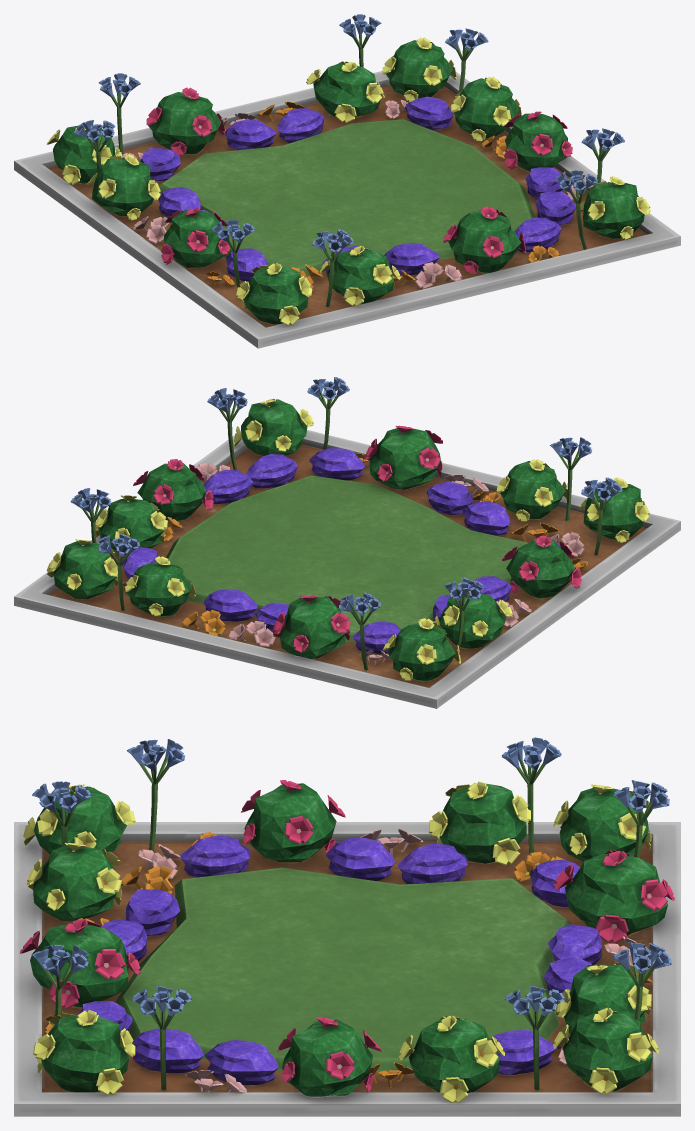
File: Garden.obj
The picture shows the model from 3 angles, top to bottom: view 1: azimuth 30°, elevation 25°; view 2: azimuth 150°, elevation 25°; view 3: azimuth 270°, elevation 25°; orthographic projection. The views are drawn at different scales.
Parts seen in each view (by area): view 1: Garden_mesh; view 2: Garden_mesh; view 3: Garden_mesh.
Boxes of the visible parts, x1,y1,x2,y2 form: Garden_mesh: (14, 14, 680, 348); Garden_mesh: (14, 377, 680, 708); Garden_mesh: (14, 737, 680, 1116).
Size of the model in its own units: 24.18 by 4.27 by 23.96.
Materials: 1 (1 with a texture image).
